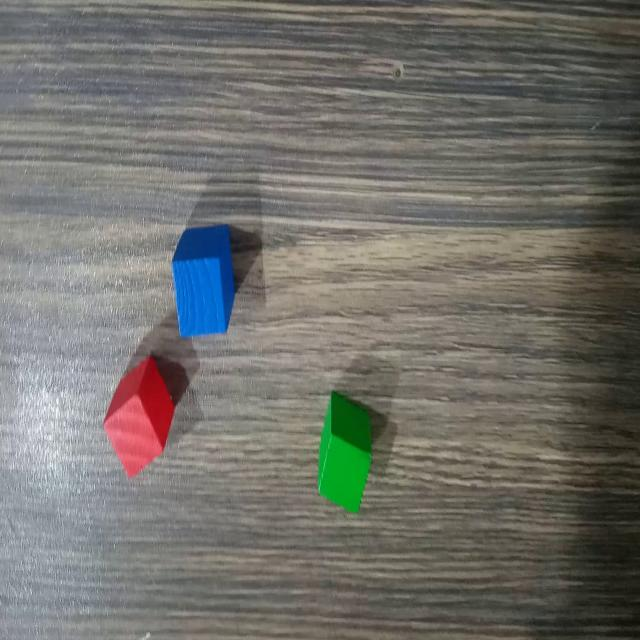cube: (101, 351, 175, 481), (168, 221, 235, 341), (316, 386, 374, 518)
